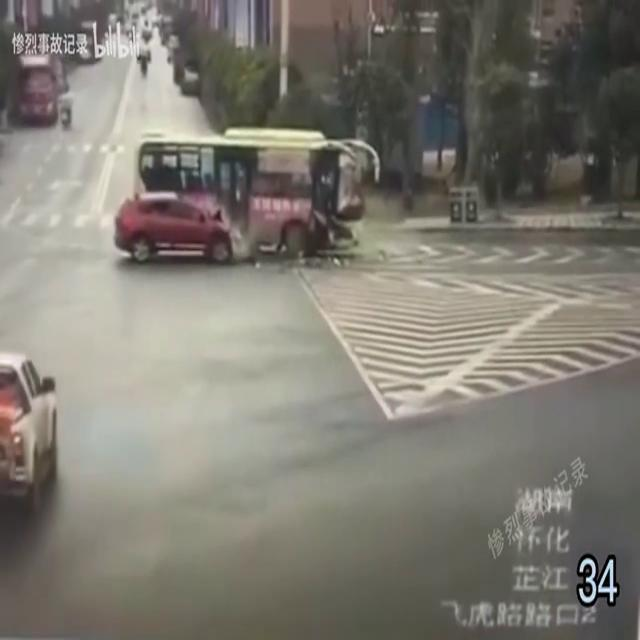accident: (114, 126, 386, 274)
